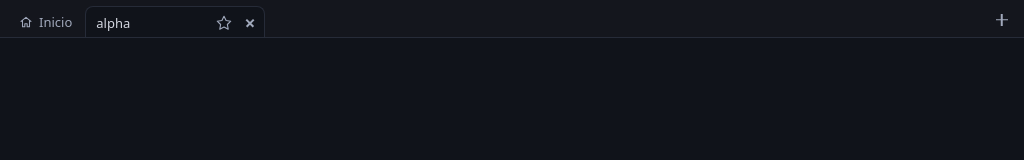
it: TabBar › opening a project › says why a folder could not be opened and lets the person dismiss it
Click the button named "Abrir un proyecto".
click(1002, 20)  # box x1=990 y1=8 x2=1014 y2=32
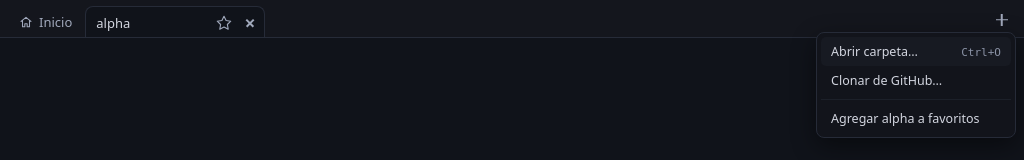
Click the menu item "Abrir carpeta… Ctrl+O".
click(916, 51)  # box x1=821 y1=36 x2=1011 y2=66
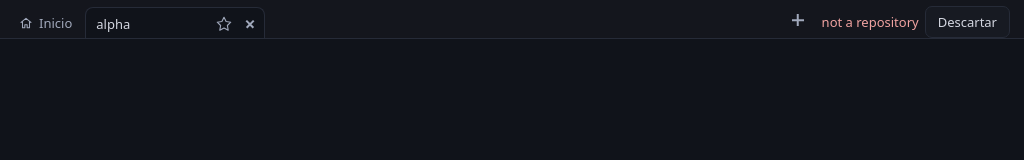
Expected: the message shows "not a repository", x1=822 y1=13 x2=919 y2=31
Click the button "Descartar".
click(967, 22)  # box x1=925 y1=6 x2=1010 y2=38
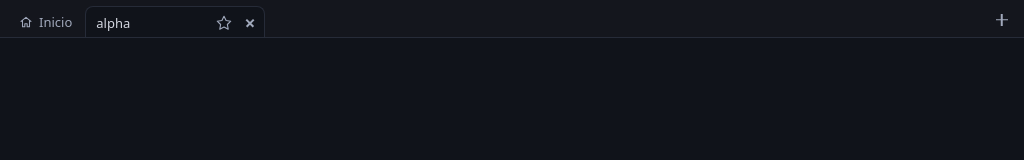
Expected: the message "not a repository Descartar" is gone
